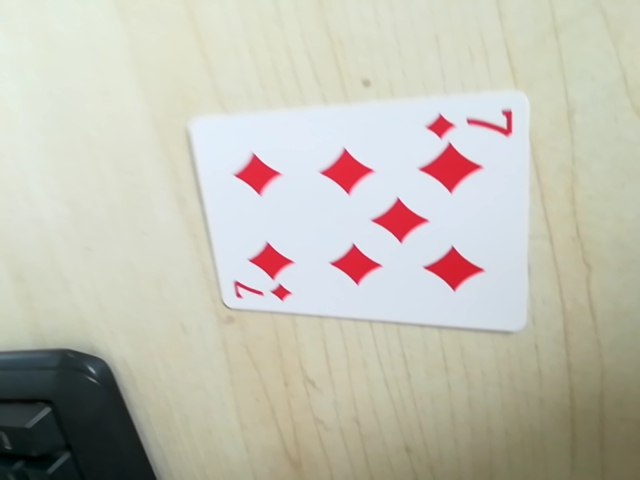fk 7: (422, 99, 518, 144), (228, 278, 295, 308)
